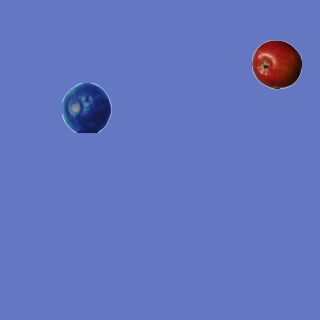Apple Braeburn: (251, 39, 301, 89)
Huckleberry: (61, 82, 111, 132)
